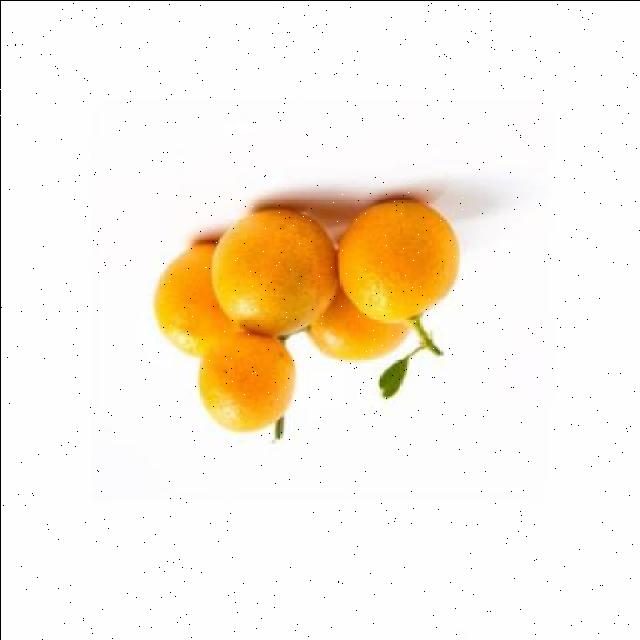Orange: (210, 206, 338, 338), (337, 198, 460, 324), (198, 332, 296, 436), (152, 242, 236, 358), (308, 286, 410, 363)
